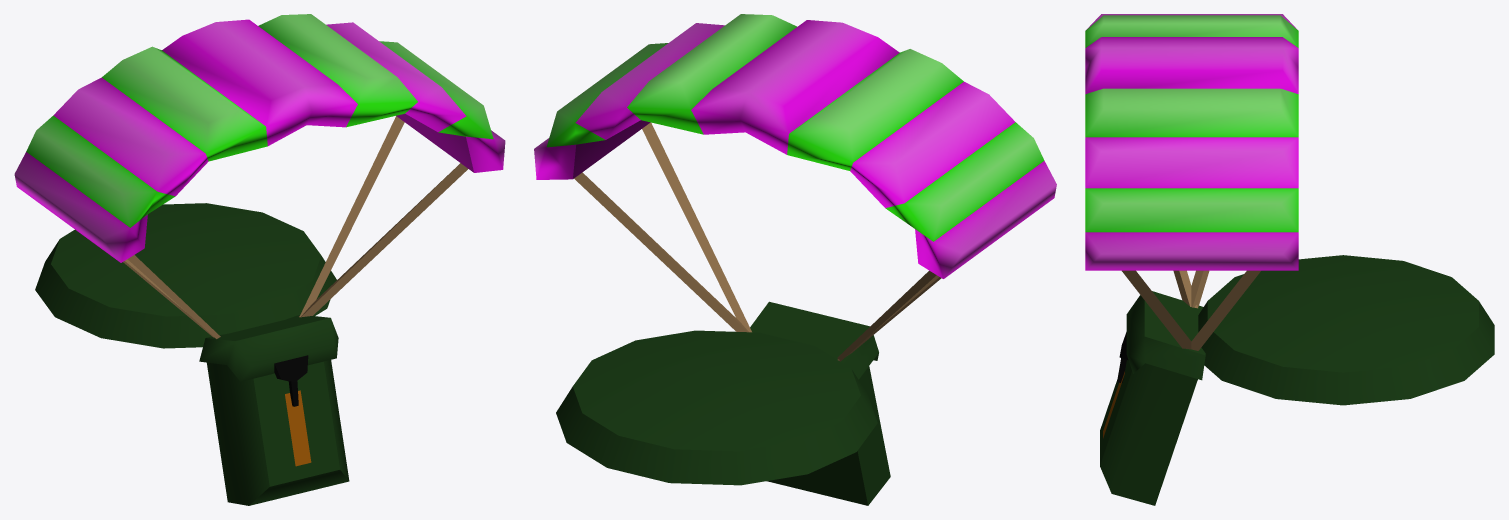
File: hat_parachute.glb
3 renders of one model, left to right at view 1: azimuth 30°, elevation 25°; view 2: azimuth 150°, elevation 25°; view 3: azimuth 270°, elevation 25°, orthographic. The views are drawn at different scales.
Parts seen in each view (by area): view 1: hat_parachute; view 2: hat_parachute; view 3: hat_parachute.
Boxes of the visible parts, <box> form: hat_parachute: <box>14,14,505,505</box>; hat_parachute: <box>534,14,1056,505</box>; hat_parachute: <box>1085,14,1494,505</box>.
Bounding box in the file's own units: 0.6236 × 0.6253 × 0.5361.
